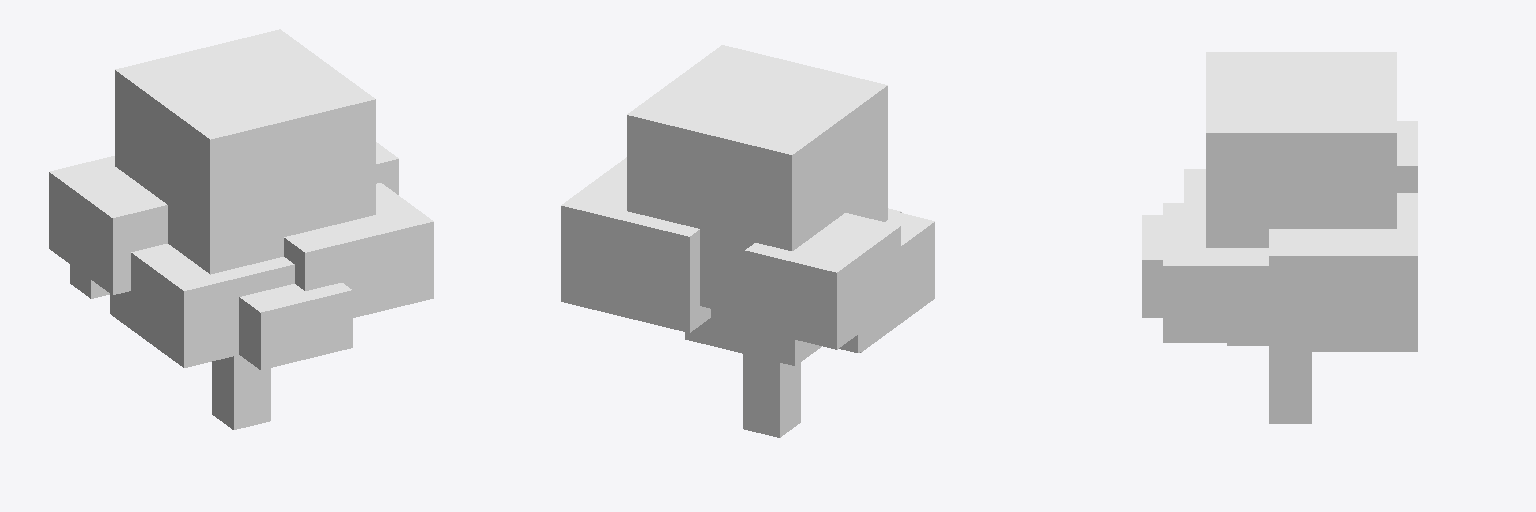
Rendered from tree_medium.obj.
3 views of the same model, side by side, from view 1: azimuth 30°, elevation 25°; view 2: azimuth 150°, elevation 25°; view 3: azimuth 270°, elevation 25° (orthographic).
Size of the model in its own units: 15 by 17 by 13.